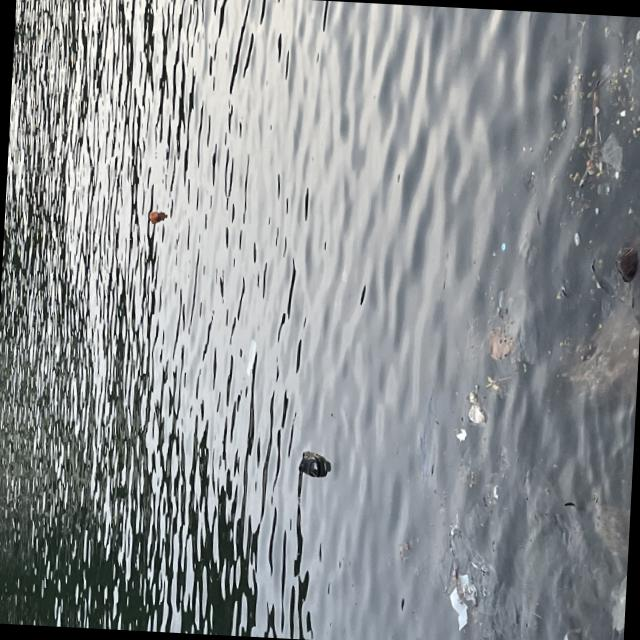plastic bottle: (151, 211, 160, 224)
